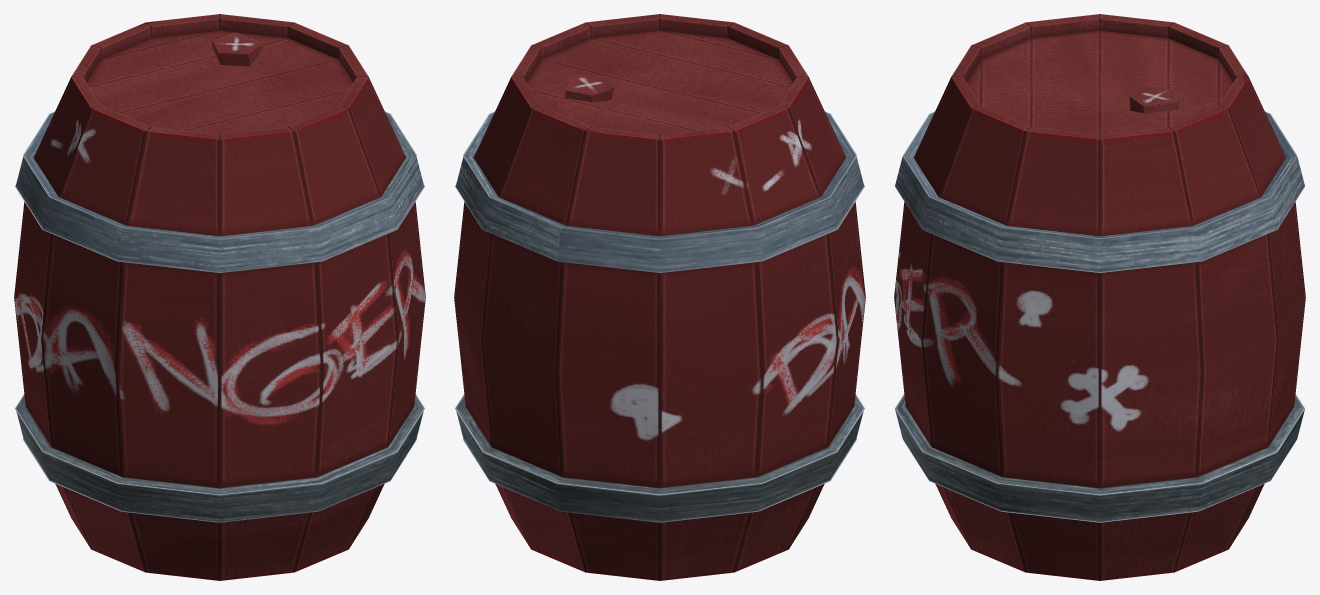
The model's file is Beczka.fbx.
3 renders of one model, left to right at view 1: azimuth 30°, elevation 25°; view 2: azimuth 150°, elevation 25°; view 3: azimuth 270°, elevation 25°, orthographic.
Parts seen in each view (by area): view 1: Beczka_LOD0; view 2: Beczka_LOD0; view 3: Beczka_LOD0.
Boxes of the visible parts, bbox=[...] form: Beczka_LOD0: bbox=[14, 14, 425, 580]; Beczka_LOD0: bbox=[454, 14, 865, 580]; Beczka_LOD0: bbox=[894, 14, 1305, 580].
Size of what is drawn, in the model's own units: 76.12 by 90.45 by 76.12.
